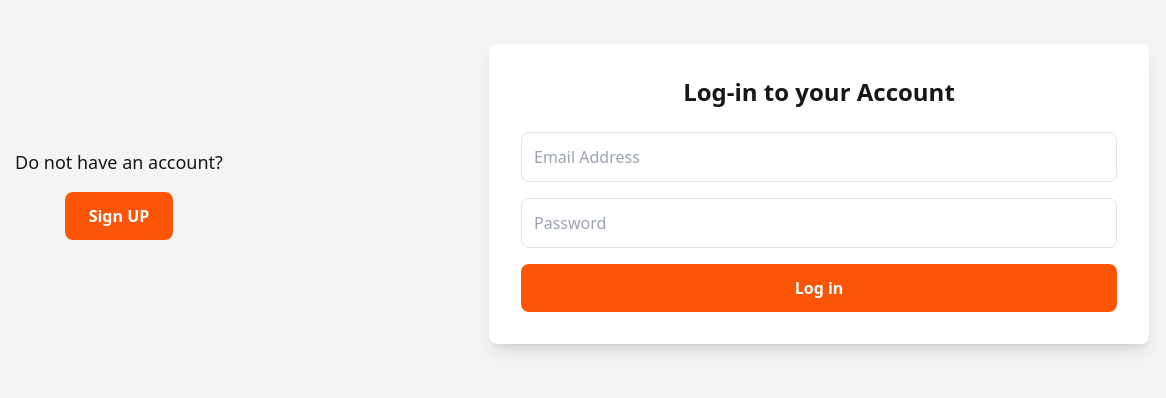
Scenario: Login Component › validates form inputs
The image size is (1166, 398).
Click the button "Log in" at (819, 288), box top-left (521, 264), bottom-right (1117, 312)
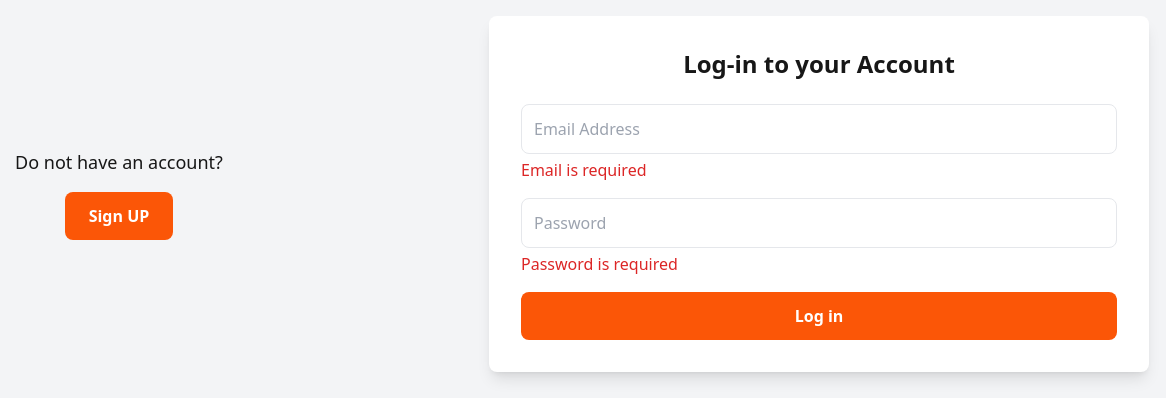
Expected: the text "Email is required" is shown, top-left (521, 159), bottom-right (646, 181)
Expected: the text "Password is required" is shown, top-left (521, 253), bottom-right (678, 275)
Type "invalid-email" into the field with placeholder "Email Address" at (819, 129), box top-left (521, 104), bottom-right (1117, 154)
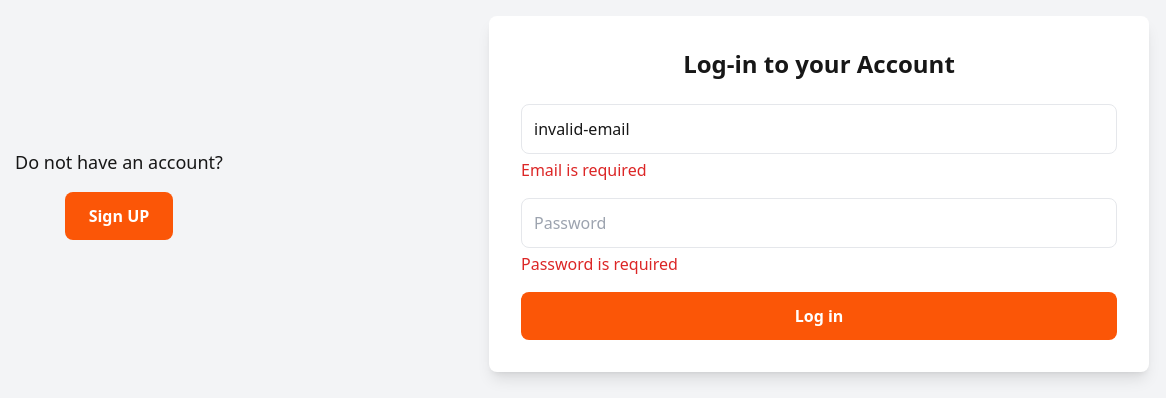
Type "qw123" into the password field with placeholder "Password" at (819, 223), box top-left (521, 198), bottom-right (1117, 248)
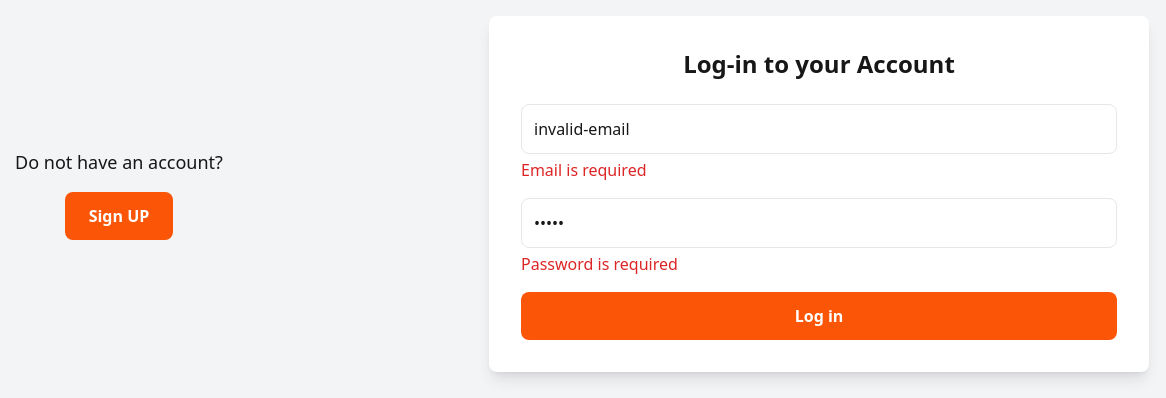
Click the button "Log in" at (819, 316), box top-left (521, 292), bottom-right (1117, 340)
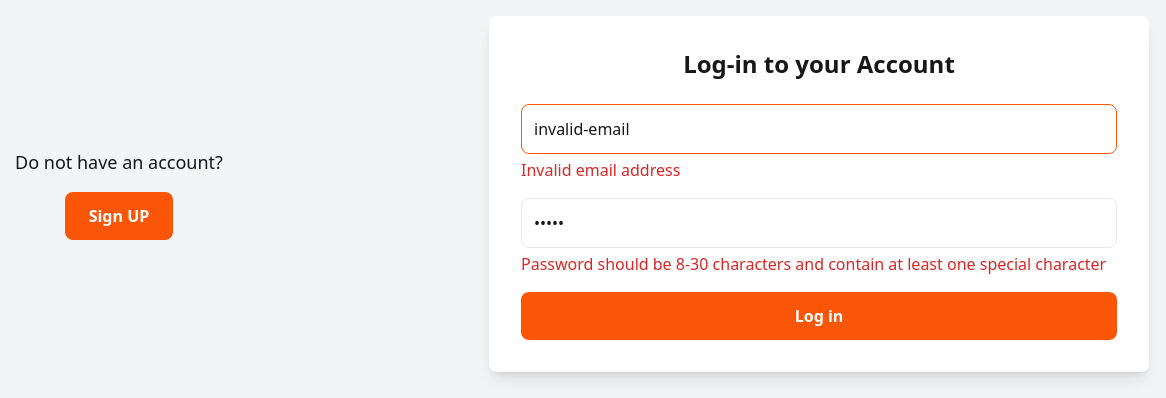
Expected: the text "Invalid email address" is shown, top-left (521, 159), bottom-right (680, 181)
Expected: the text "Password should be 8-30 characters and contain at least one special character" is shown, top-left (521, 252), bottom-right (1117, 276)
